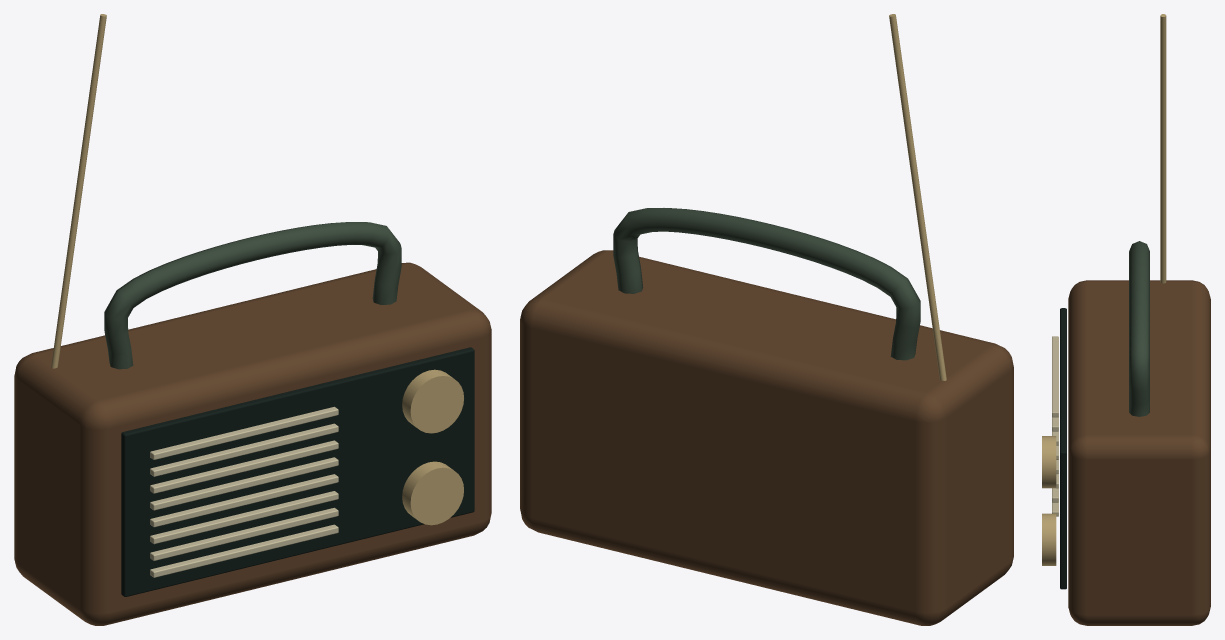
The model's file is radio.glb.
3 views of the same model, side by side, from view 1: azimuth 30°, elevation 25°; view 2: azimuth 150°, elevation 25°; view 3: azimuth 270°, elevation 25° (orthographic). The views are drawn at different scales.
Visible parts, largest first — view 1: radio; view 2: radio; view 3: radio.
Boxes of the visible parts, x1=… form: radio: x1=14, y1=14, x2=491, y2=625; radio: x1=520, y1=14, x2=1013, y2=625; radio: x1=1042, y1=14, x2=1210, y2=625.
Bounding box in the file's own units: 0.84 × 1.11 × 0.355.
